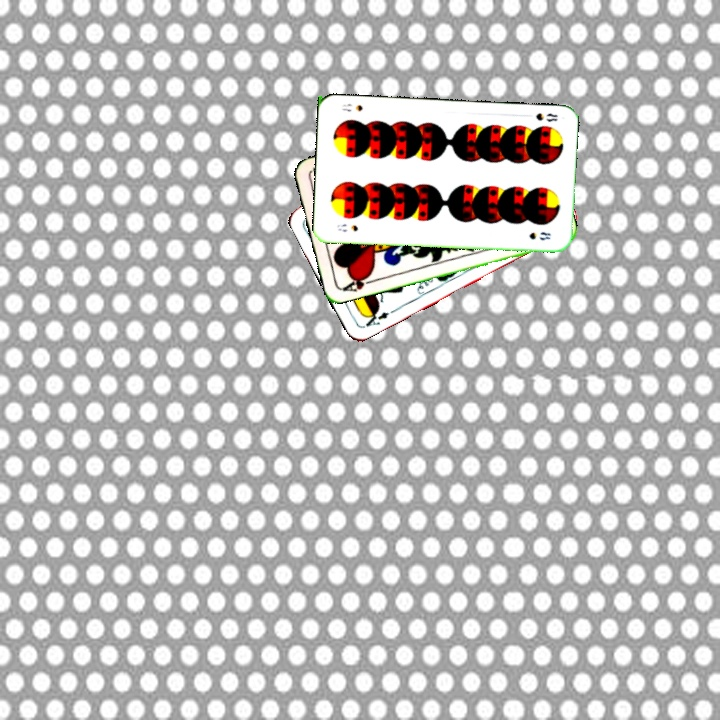EA: (359, 305, 392, 330)
HA: (339, 270, 379, 294)
S8: (532, 109, 560, 124), (333, 220, 361, 234)
